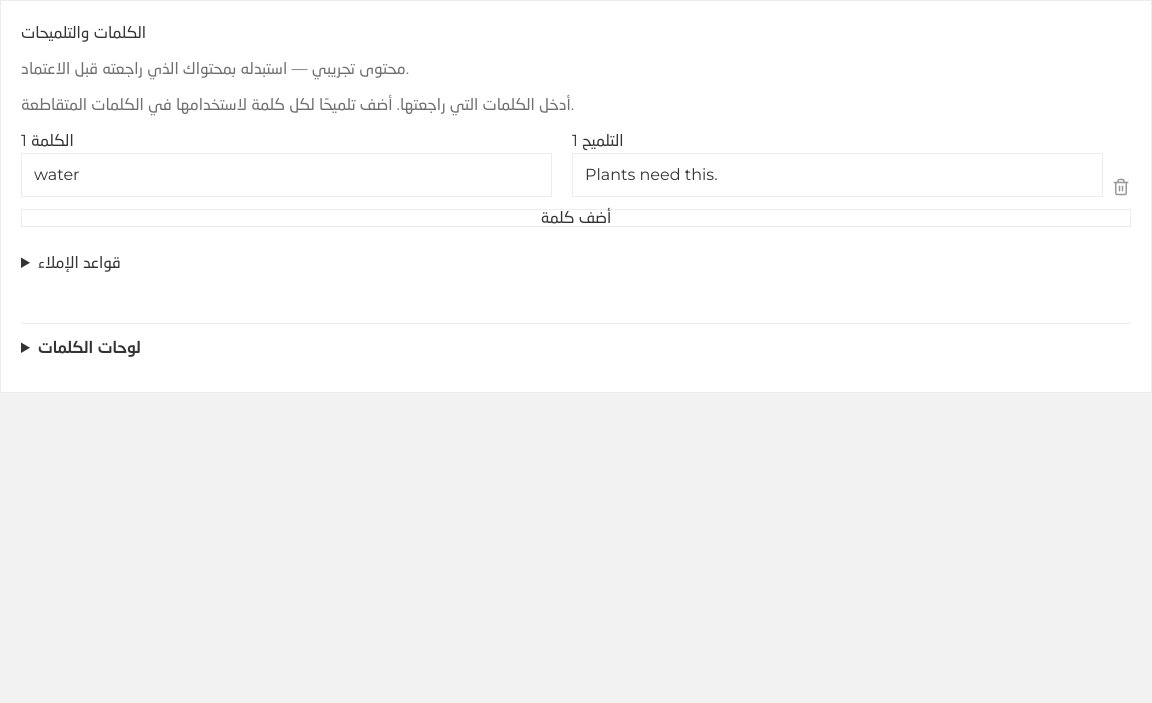
Test case: keeps Arabic graphemes and saved coordinates intact in the preview and blocks out-of-range dimensions
Click the heading "لوحات الكلمات": (89, 348) [38,338,141,357]
(page scrolled)
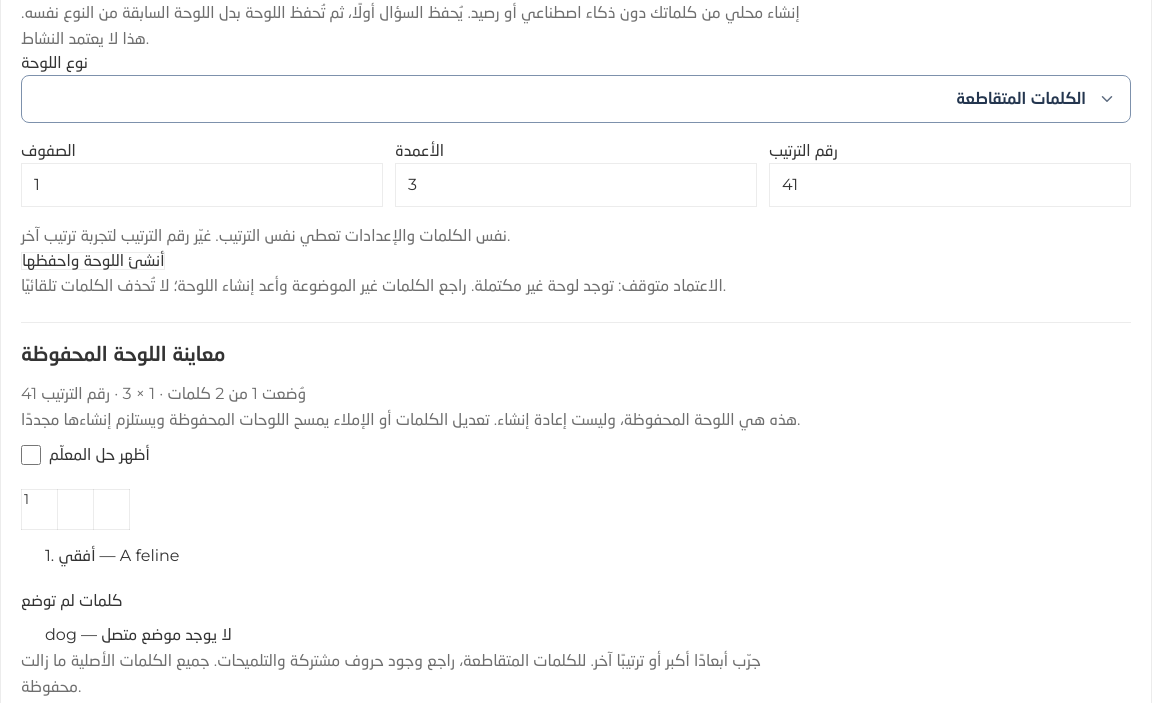
Click the checkbox labelled "أظهر حل المعلّم": (31, 455) [21,445,41,465]
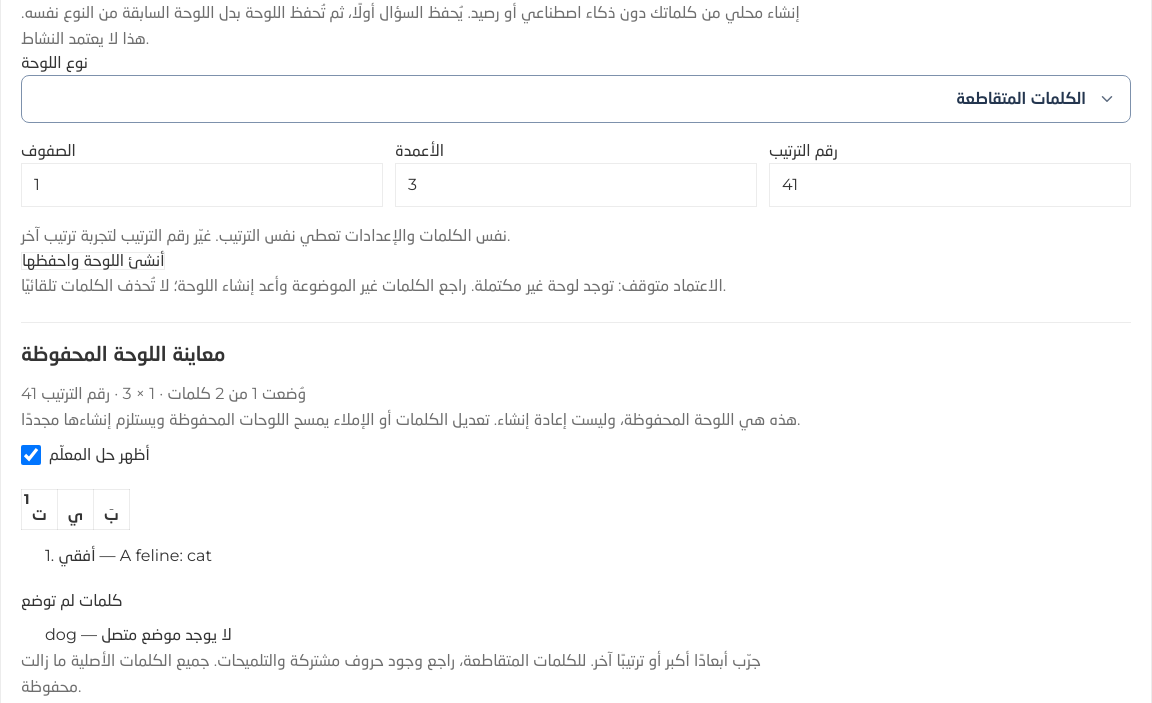
Result: the cell named "صف 1 عمود 3: بَ" reads "بَ" at [104,506,119,524]
Replace the text in the number field labelled "الصفوف" with "21": (202, 185) [21,163,383,207]
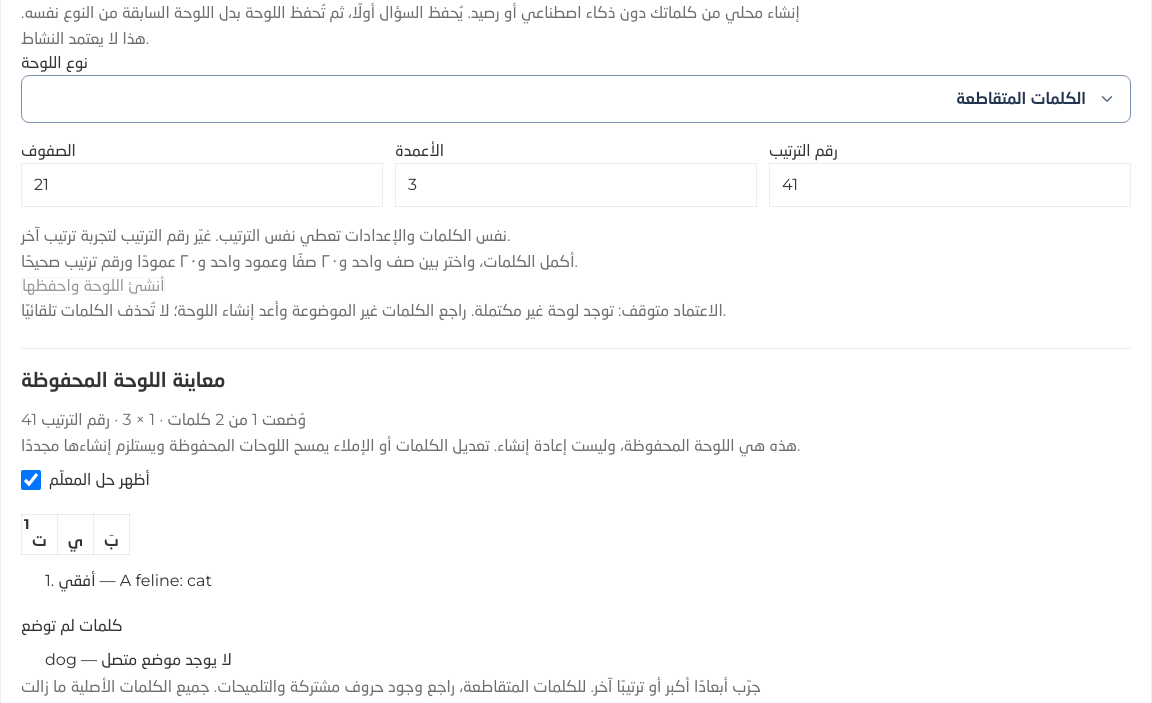
Result: the button "أنشئ اللوحة واحفظها" is disabled at [21,277,165,295]
